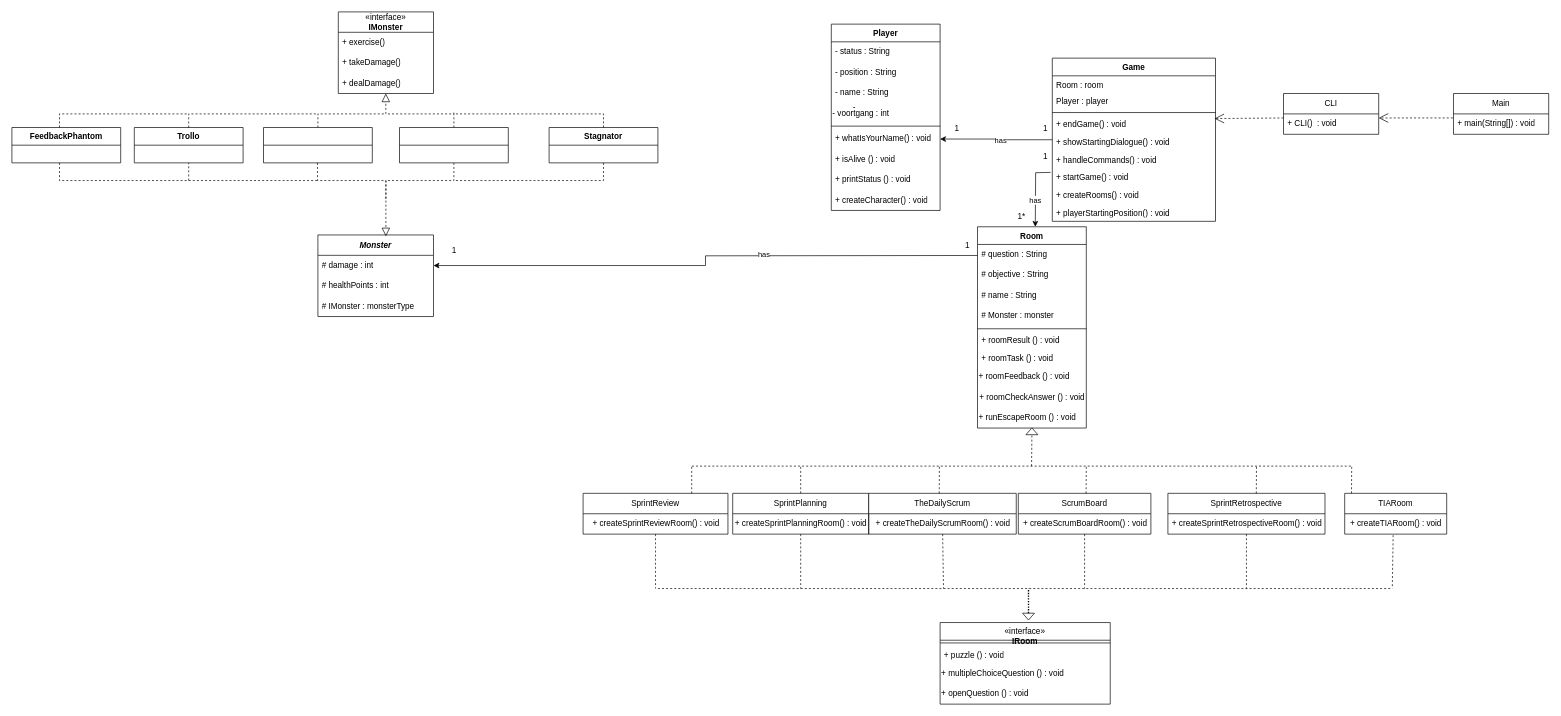
The diagram is 1561 pixels wide and 716 high, and some of its shapes have lost their labels. The shapes that lost their labels are listed below. From the top down, each one's centre as x and y in pixels, then its label:
At point (317, 145): "Scope-Creep".
At point (453, 145): "Slowness".
